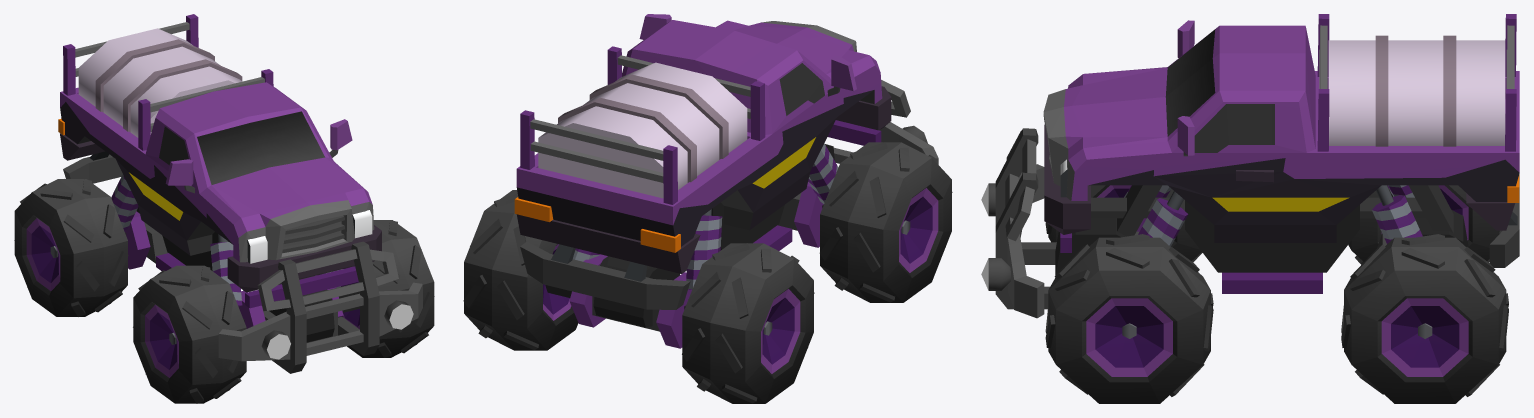
Rendered from head_SP3_2.fbx.
3 views of the same model, side by side, from view 1: azimuth 30°, elevation 25°; view 2: azimuth 150°, elevation 25°; view 3: azimuth 270°, elevation 25° (orthographic). The views are drawn at different scales.
Visible parts, largest first — view 1: head_SP3_2; view 2: head_SP3_2; view 3: head_SP3_2.
Boxes of the visible parts, <box> form: head_SP3_2: <box>14,14,434,403</box>; head_SP3_2: <box>463,14,952,403</box>; head_SP3_2: <box>981,14,1519,403</box>.
Bounding box in the file's own units: 2142 × 1893 × 3229.
